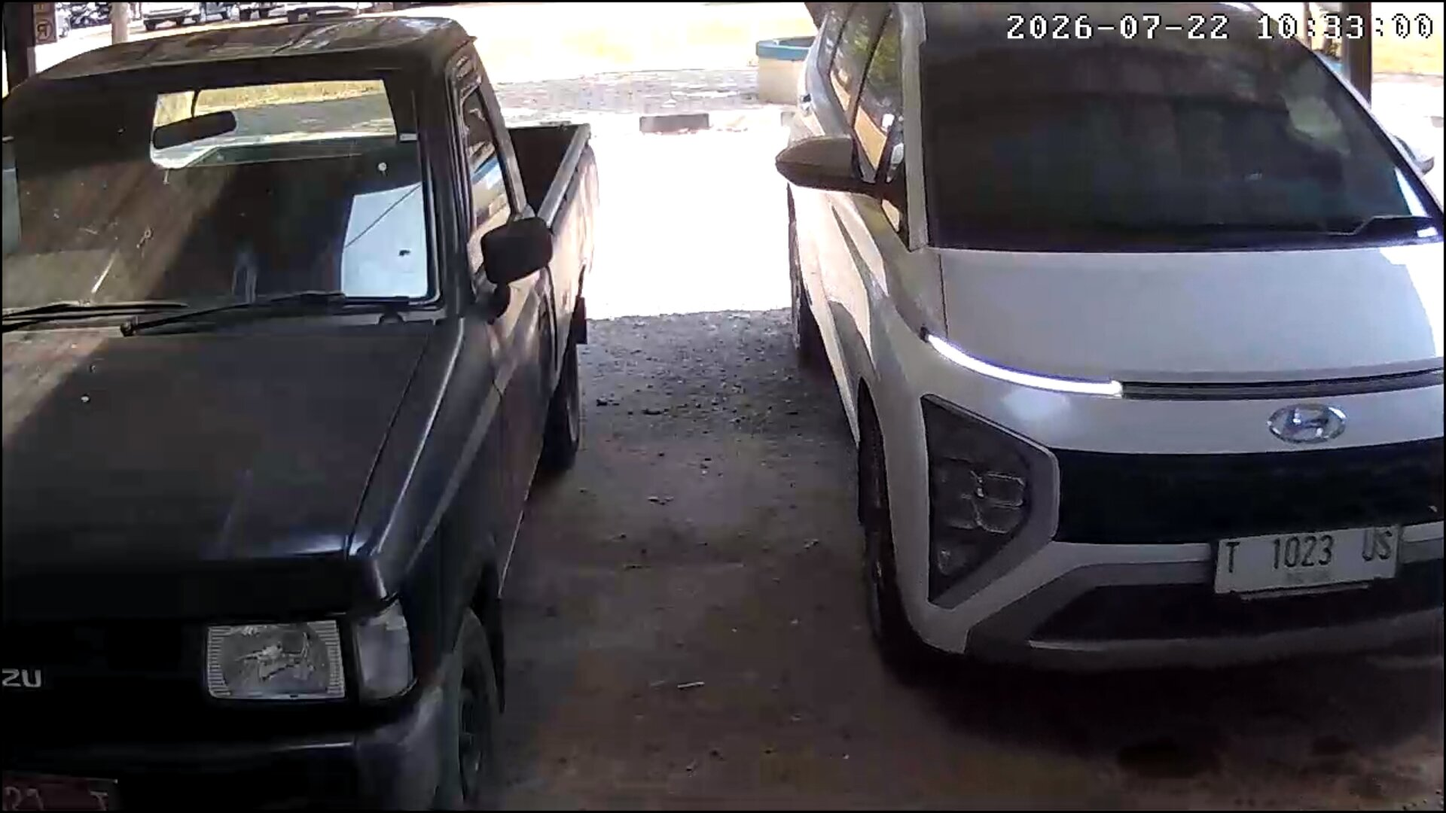plat nomor: (1212, 524, 1400, 595)
